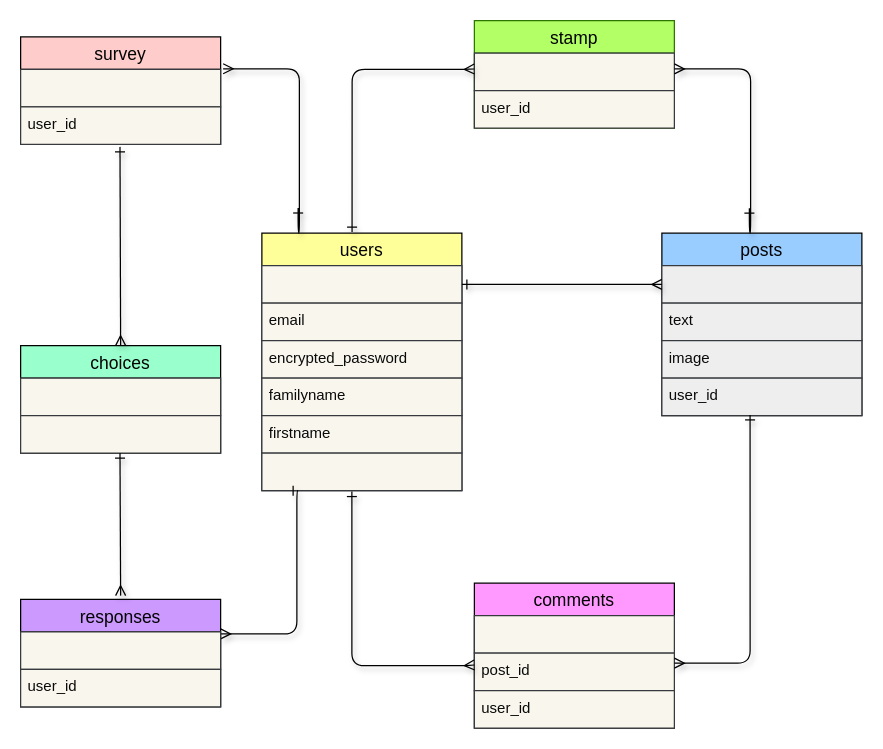
The diagram is 883 pixels wide and 749 high, and some of its shapes have lost their labels. The shapes that lost their labels are listed below. From the top down, each one's centre as x and y in pixels, then its label:
At point (120, 87): "question".
At point (573, 71): "postt_id".
At point (361, 283): "nickname".
At point (761, 283): "title".
At point (120, 396): "answer".
At point (120, 433): "survey_id".
At point (361, 471): "department".
At point (120, 650): "choice_id".
At point (573, 633): "comment_text".
